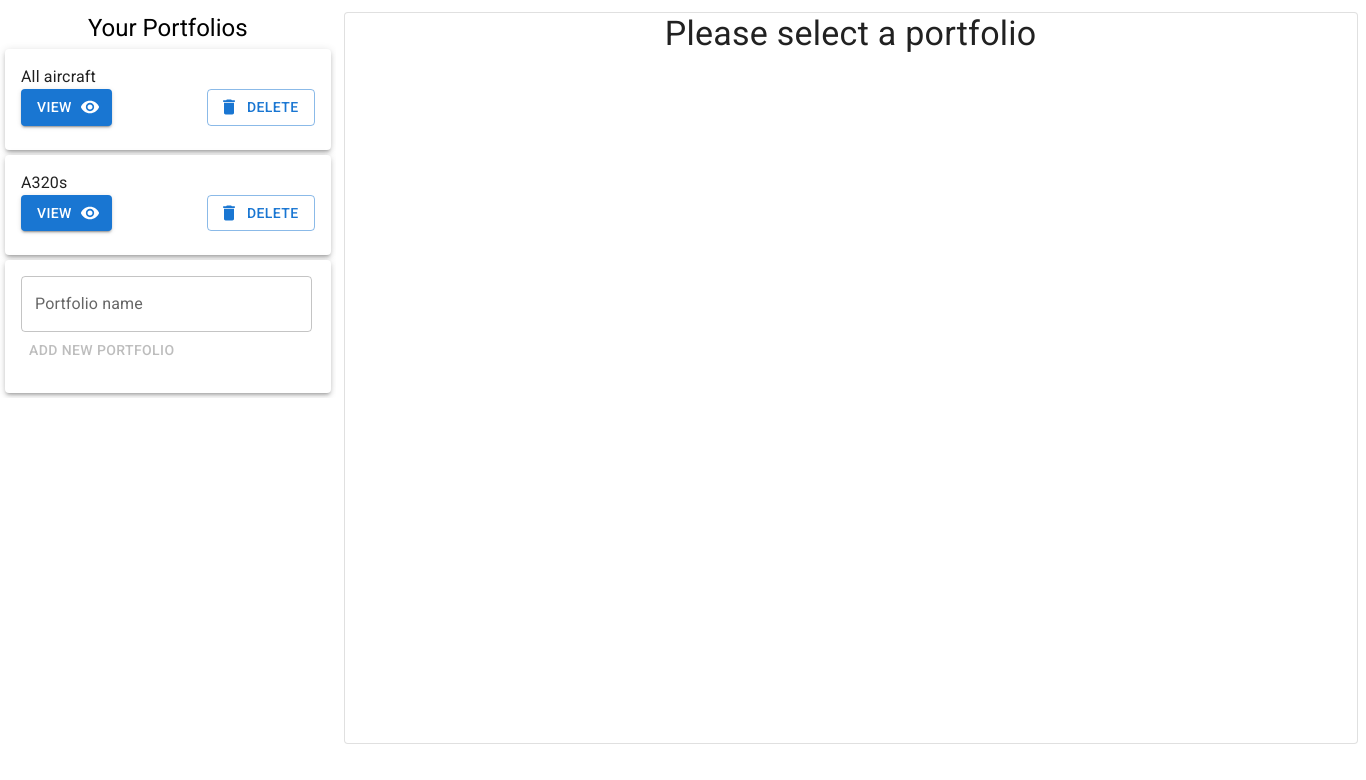
Test: Dashboard flow › Clicking the view button on a portfolio card displays the portfolio details
Click the button "View" below "All aircraft".
click(67, 108)  # box [21, 89, 112, 126]
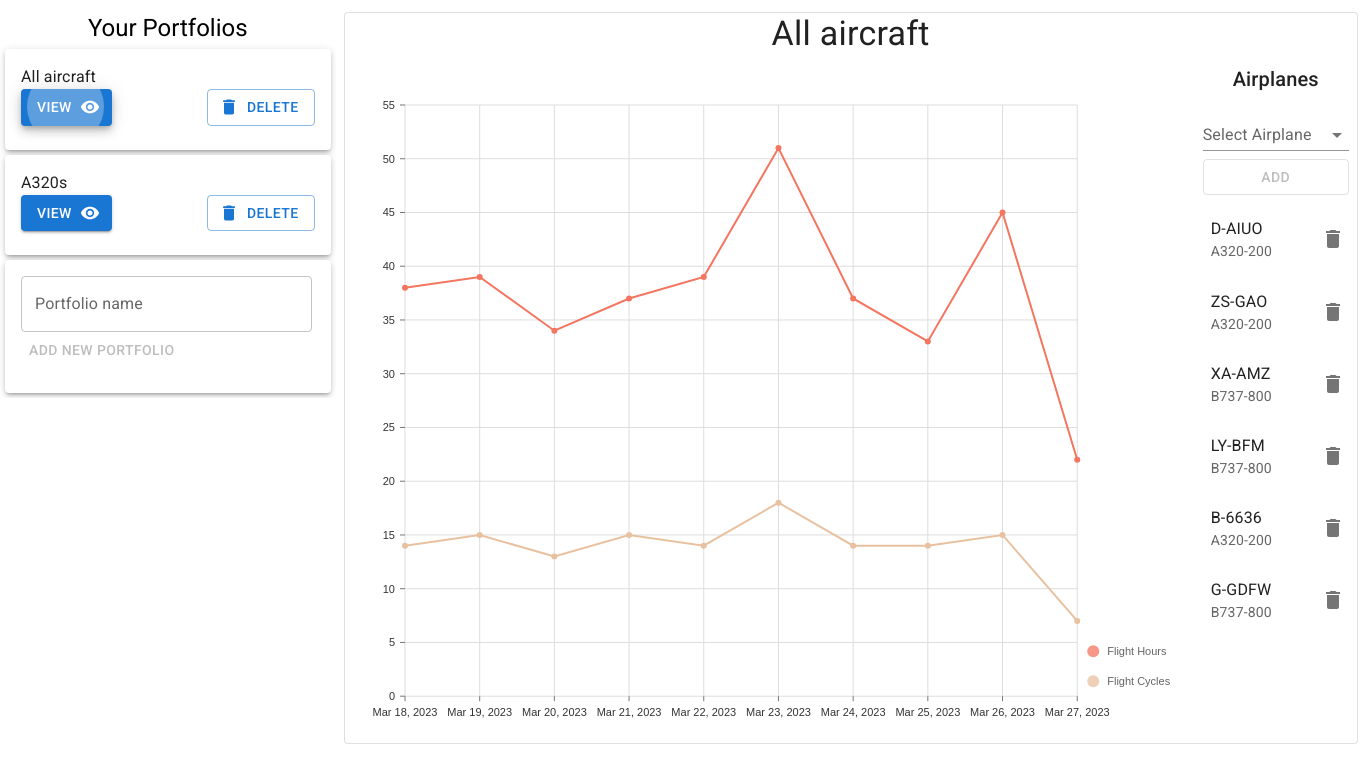
Result: the heading "All aircraft" is shown at [772, 13, 930, 53]
